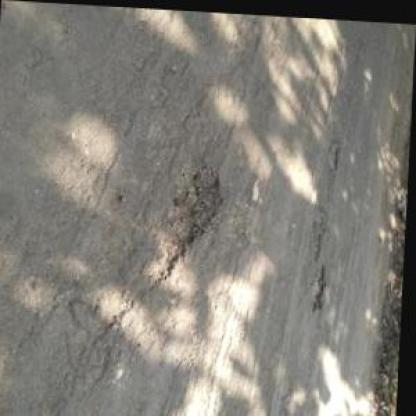pothole: (151, 152, 226, 286), (310, 260, 332, 310), (326, 130, 342, 173)
